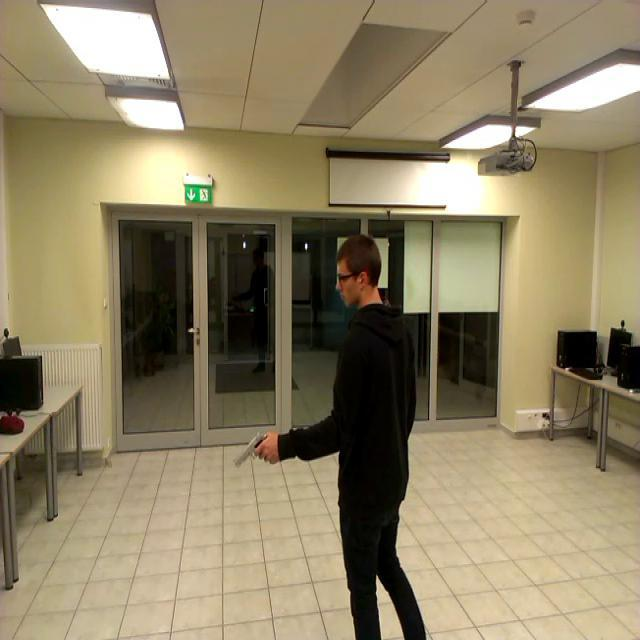Gun: (234, 428, 274, 467)
